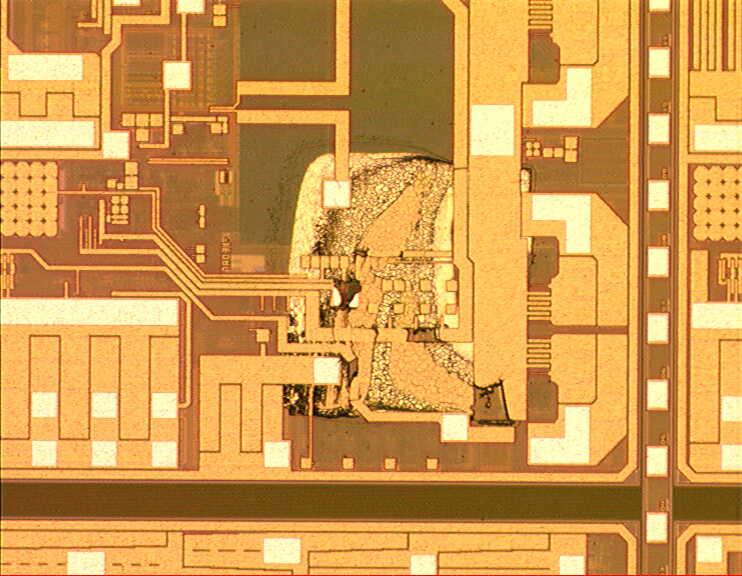BLOCK ETCH: (259, 128, 550, 440)
